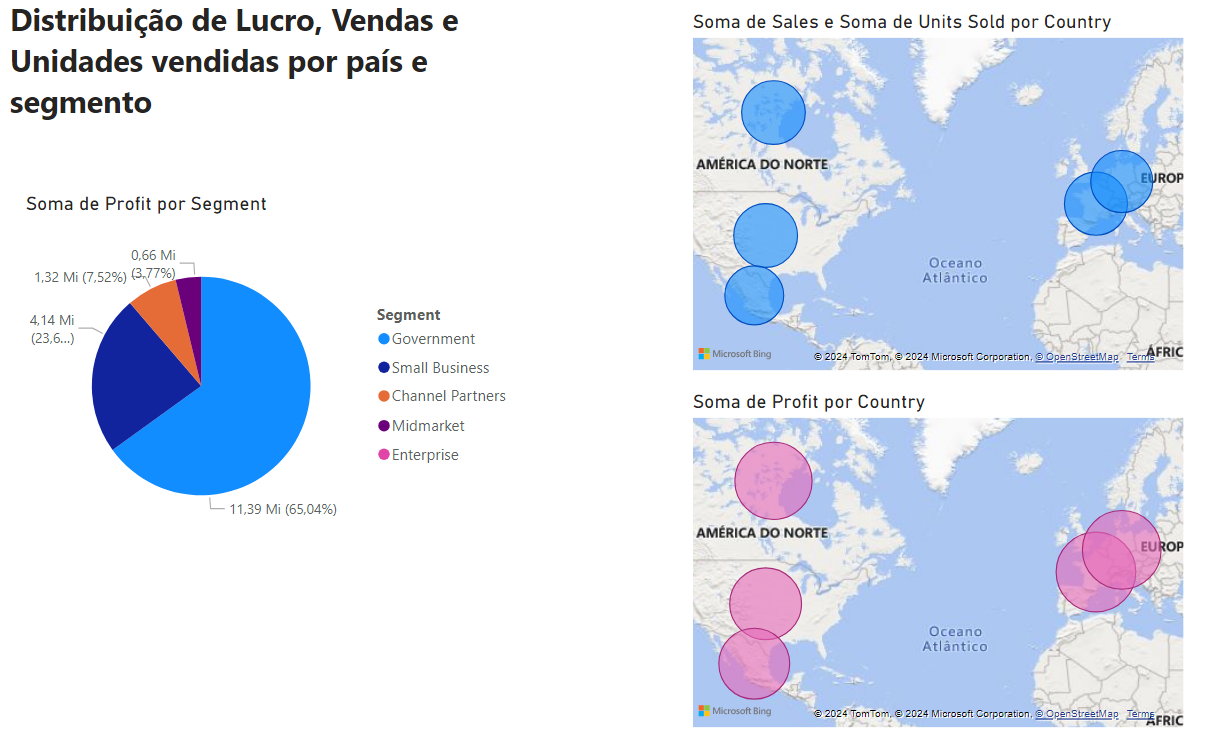

The dashboard page shown, as its layout file describes it:
{"tool":"powerbi","page":{"name":"Página 1","canvas":[1280,720],"ordinal":0},"visuals":[{"type":"map","fields":{"Category":["financials.Country"],"Size":["Sum(financials. Sales)"]},"box":[743.1,57.4,438.7,320],"z":0},{"type":"map","fields":{"Category":["financials.Country"],"Size":["Sum(financials.Profit)"]},"box":[743.1,390,438.7,299.6],"z":1000},{"type":"pieChart","fields":{"Category":["financials.Segment"],"Y":["Sum(financials.Profit)"]},"box":[159.5,216.9,438.7,320],"z":2000},{"type":"textbox","box":[145.9,41.8,438.7,159.5],"z":3000}]}

Visuals, with their boxes on the page's 1280x720 design canvas (x1, y1, x2, y2). These are canvas units, not pixel positions in the 1206x749 screenshot, which may show the page scaled, cropped or inside an application window:
map - financials.Country x Sum(financials. Sales): [743,57,1182,377]
map - financials.Country x Sum(financials.Profit): [743,390,1182,690]
pieChart - financials.Segment x Sum(financials.Profit): [160,217,598,537]
textbox: [146,42,585,201]
